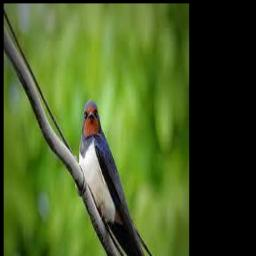Swallow: (78, 99, 170, 256)
